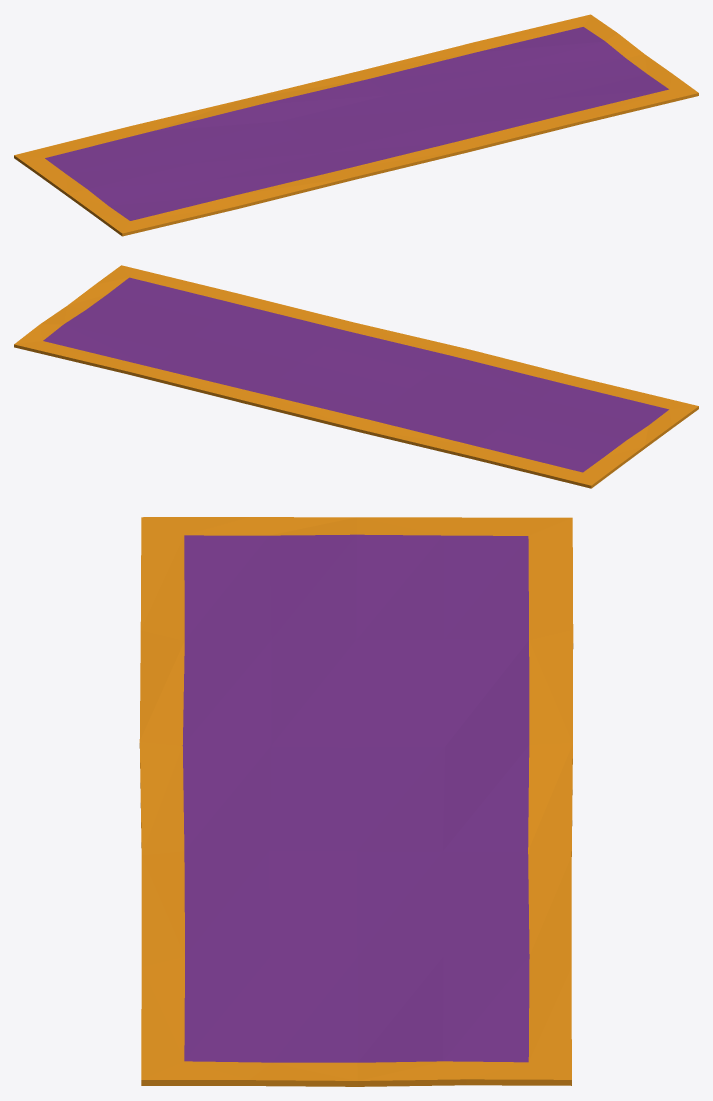
File: SFI_Carpet_010.fbx
The picture shows the model from 3 angles, top to bottom: view 1: azimuth 30°, elevation 25°; view 2: azimuth 150°, elevation 25°; view 3: azimuth 270°, elevation 25°; orthographic projection. The views are drawn at different scales.
Parts seen in each view (by area): view 1: SFI_Carpet_010; view 2: SFI_Carpet_010; view 3: SFI_Carpet_010.
Part boxes in pixels (x1,y1,x2,y2): SFI_Carpet_010: (14,14,698,236); SFI_Carpet_010: (14,265,698,488); SFI_Carpet_010: (139,517,573,1086).
Bounding box in the file's own units: 305 × 2.21 × 99.29.
